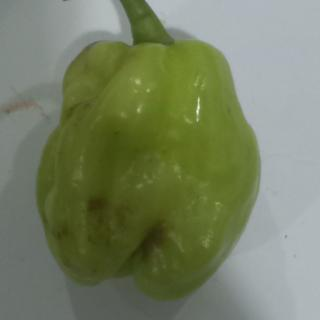Defect: (130, 221, 169, 260), (81, 190, 111, 217)
